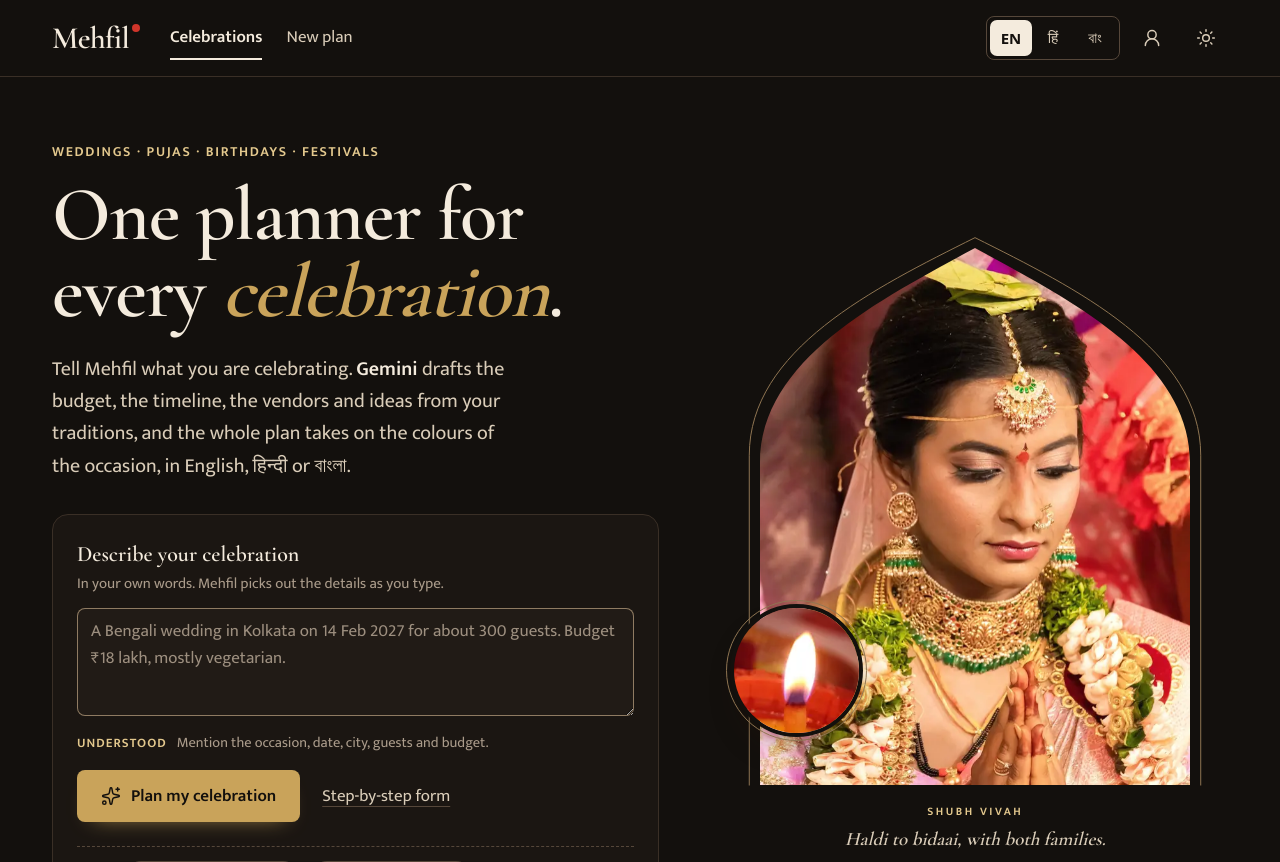
Test: App › loads the step-by-step form on demand
The image size is (1280, 862).
Click the link "Step-by-step form": (386, 796) [322,774,450,818]
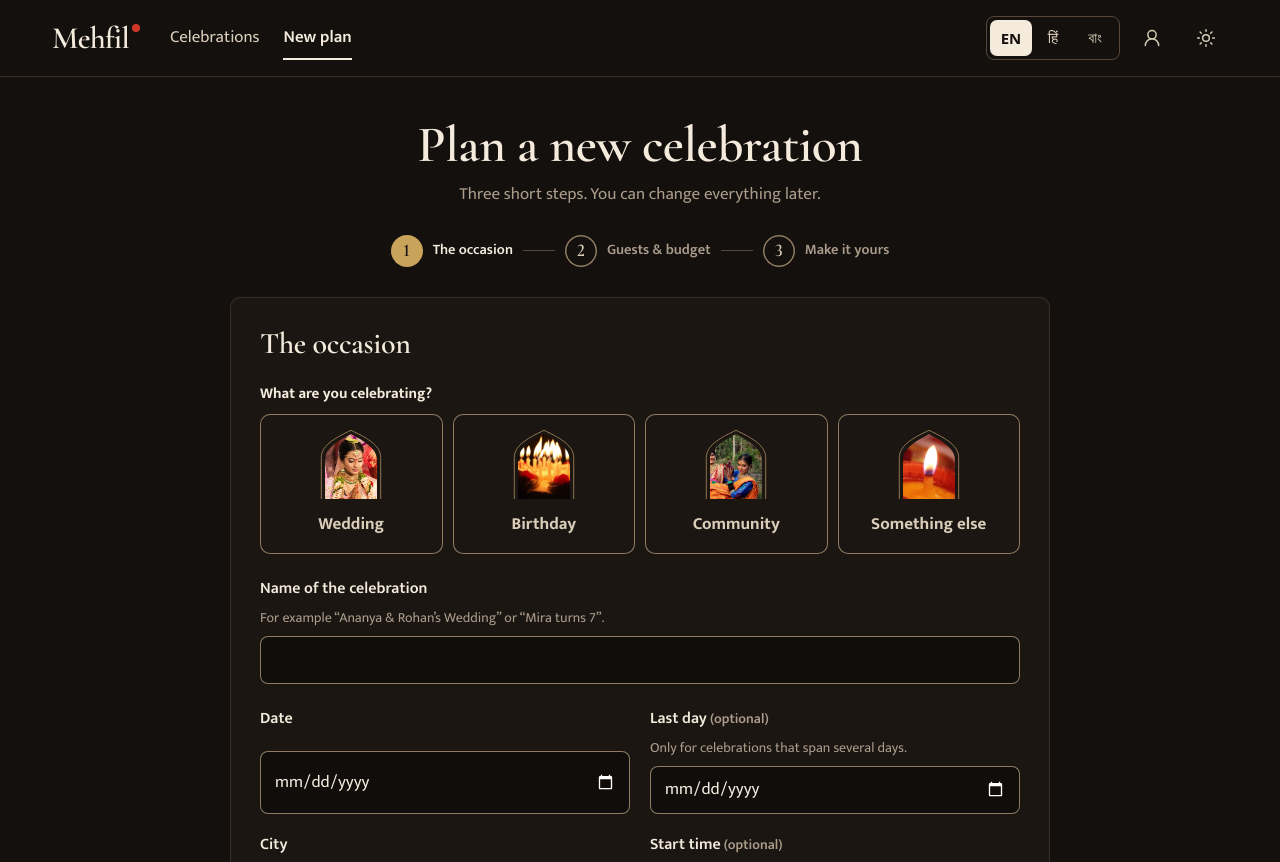
Now the heading "Plan a new celebration" is shown, box [418,114,862,176]
